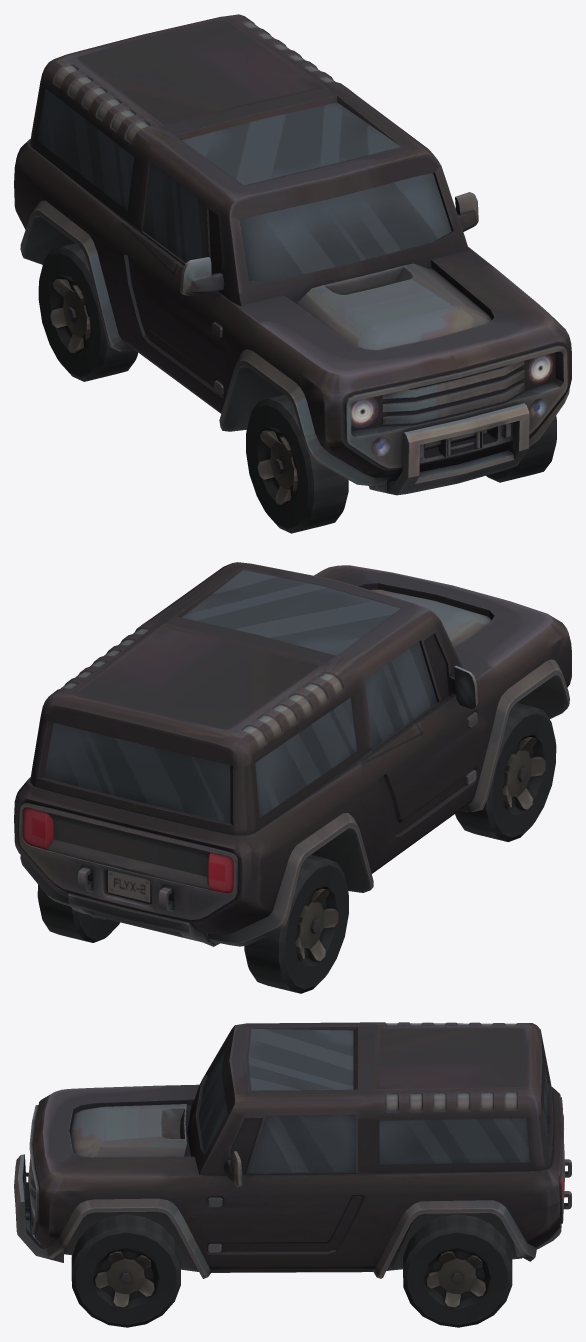
Rendered from Car-2.fbx.
3 views of the same model, one above another, from view 1: azimuth 30°, elevation 25°; view 2: azimuth 150°, elevation 25°; view 3: azimuth 270°, elevation 25° (orthographic). The views are drawn at different scales.
Visible parts, largest first — view 1: Car-2, car-2-W-F-R, car-2-W-B, car-2-W-F-L; view 2: Car-2, car-2-W-B, car-2-W-F-R; view 3: Car-2, car-2-W-B, car-2-W-F-L.
Part boxes in pixels (<box>): Car-2: <box>14,14,571,495</box>; car-2-W-F-R: <box>246,394,348,533</box>; car-2-W-B: <box>38,243,137,381</box>; car-2-W-F-L: <box>486,415,556,482</box>; Car-2: <box>14,562,571,946</box>; car-2-W-B: <box>37,855,348,993</box>; car-2-W-F-R: <box>455,703,556,841</box>; Car-2: <box>14,1022,571,1278</box>; car-2-W-B: <box>403,1214,512,1327</box>; car-2-W-F-L: <box>71,1214,180,1327</box>.
Bounding box in the file's own units: 2 × 1.8 × 4.07.
